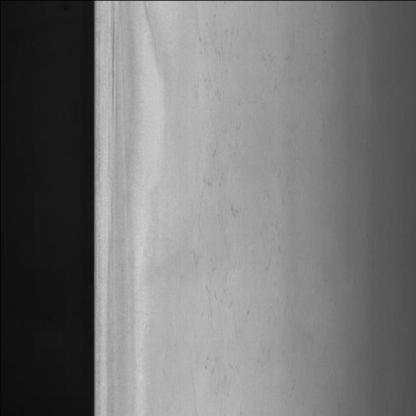silk_spot: (184, 0, 285, 404)
